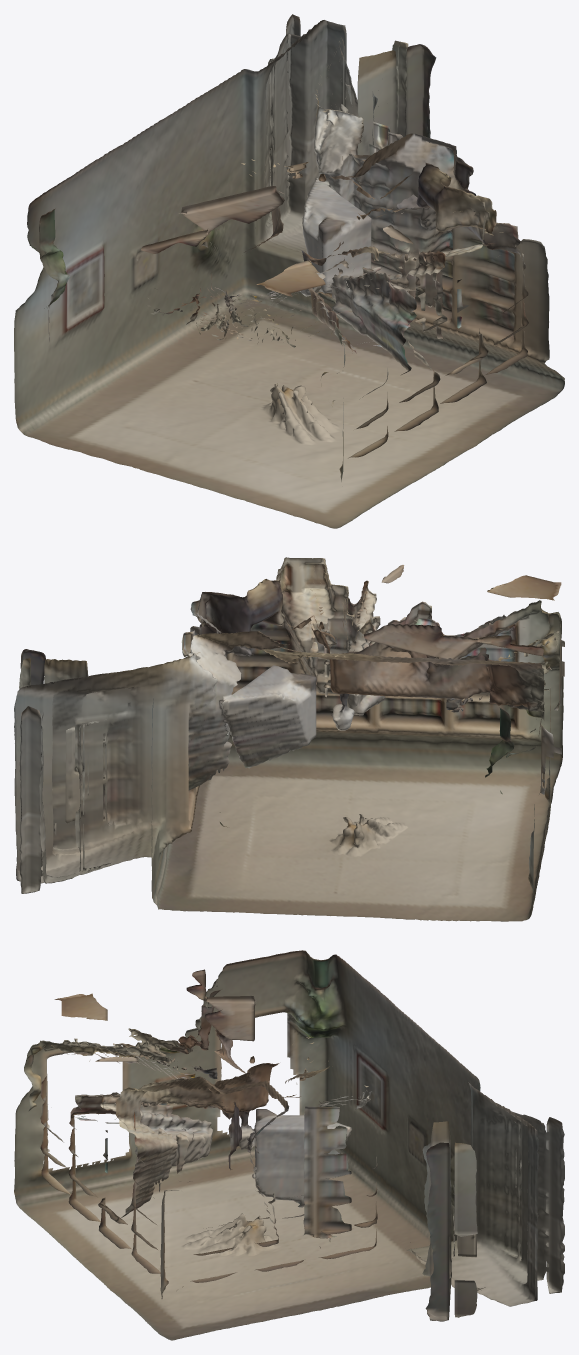
The model's file is study_room_collider.glb.
3 renders of one model, top to bottom at view 1: azimuth 30°, elevation 25°; view 2: azimuth 150°, elevation 25°; view 3: azimuth 270°, elevation 25°, orthographic. The views are drawn at different scales.
Parts seen in each view (by area): view 1: world; view 2: world; view 3: world.
Part boxes in pixels (bbox=[...]): world: bbox=[14, 14, 564, 528]; world: bbox=[14, 557, 564, 921]; world: bbox=[14, 950, 564, 1340].
Bounding box in the file's own units: 12.31 × 5.69 × 13.81.
